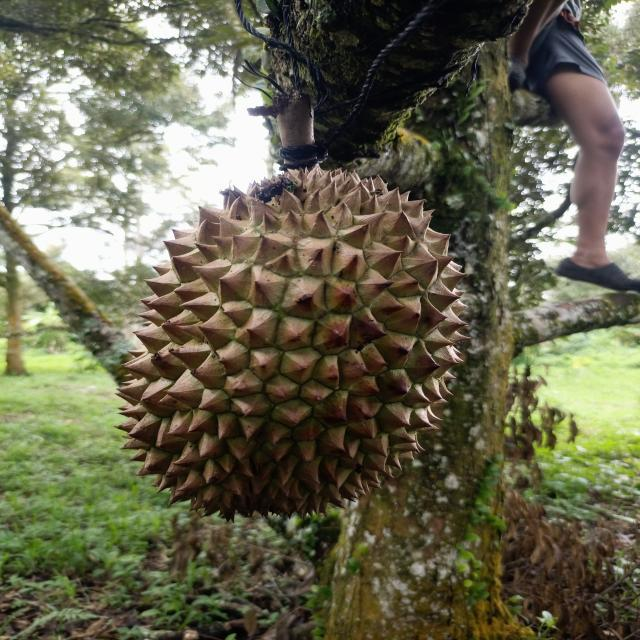mature: (111, 164, 469, 522)
